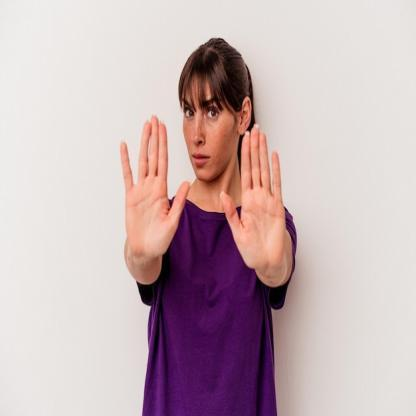stop: (220, 122, 294, 282), (118, 112, 190, 262)
